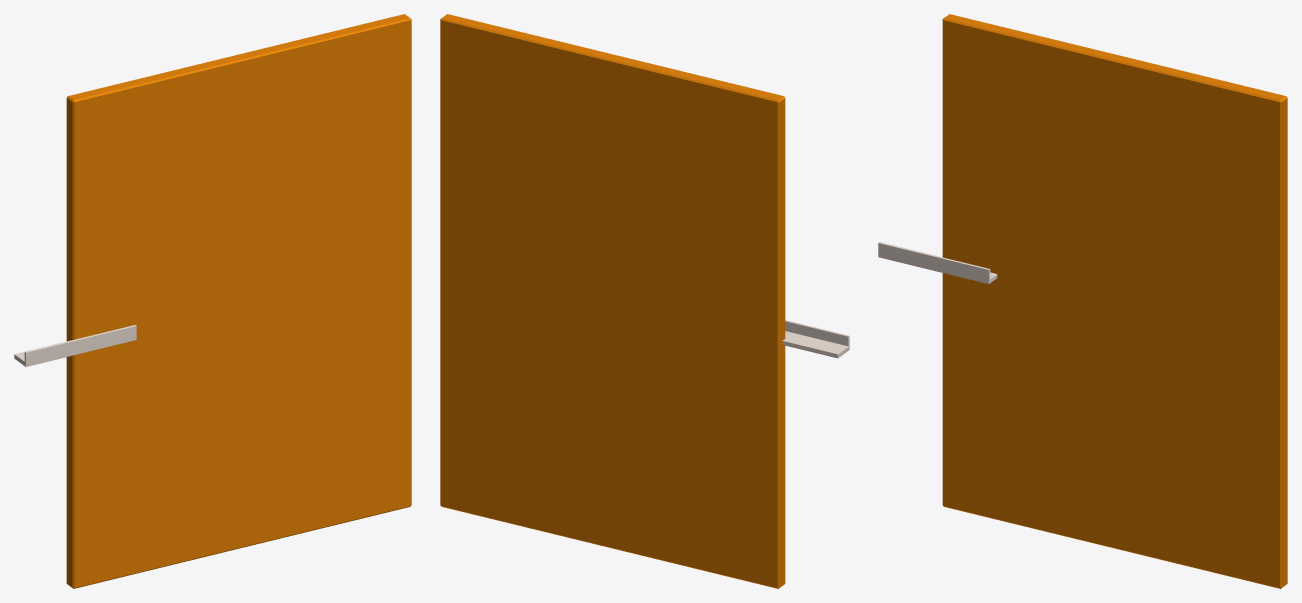
File: Cabinet_82b18109.obj
The picture shows the model from 3 angles, left to right: view 1: azimuth 30°, elevation 25°; view 2: azimuth 150°, elevation 25°; view 3: azimuth 330°, elevation 25°; orthographic projection.
Parts seen in each view (by area): view 1: Door_29c444aa, handle_3_178mm_01_47546e80; view 2: Door_29c444aa, handle_3_178mm_01_47546e80; view 3: Door_29c444aa, handle_3_178mm_01_47546e80.
Part boxes in pixels (left/top/right/bottom): Door_29c444aa: left=66, top=14, right=411, bottom=588; handle_3_178mm_01_47546e80: left=14, top=325, right=136, bottom=366; Door_29c444aa: left=440, top=14, right=785, bottom=588; handle_3_178mm_01_47546e80: left=782, top=320, right=849, bottom=358; Door_29c444aa: left=942, top=14, right=1287, bottom=588; handle_3_178mm_01_47546e80: left=878, top=242, right=997, bottom=283.
Bounding box in the file's own units: 0.634 × 0.75 × 0.0426.
